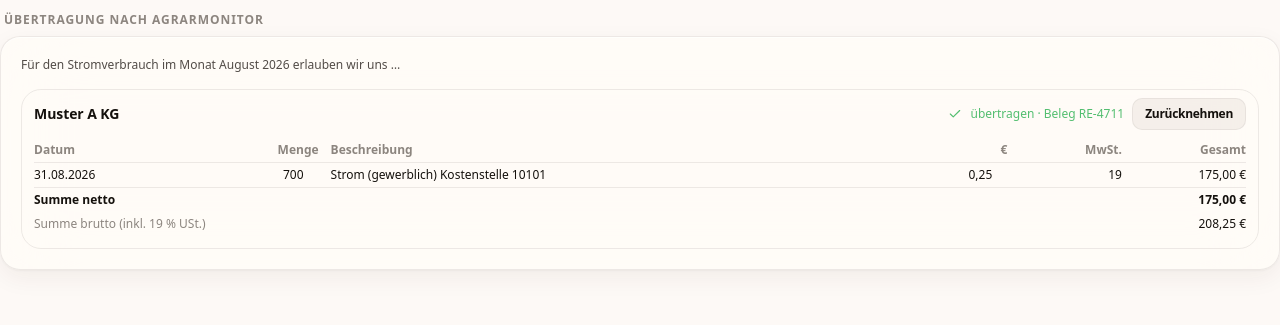
Test: TransferSection › nimmt eine Markierung zurück
What coordinates should you click on to do the following:
click the button "Zurücknehmen"
I would click on:
 (1189, 114)
Its box is [1132,98,1246,130].
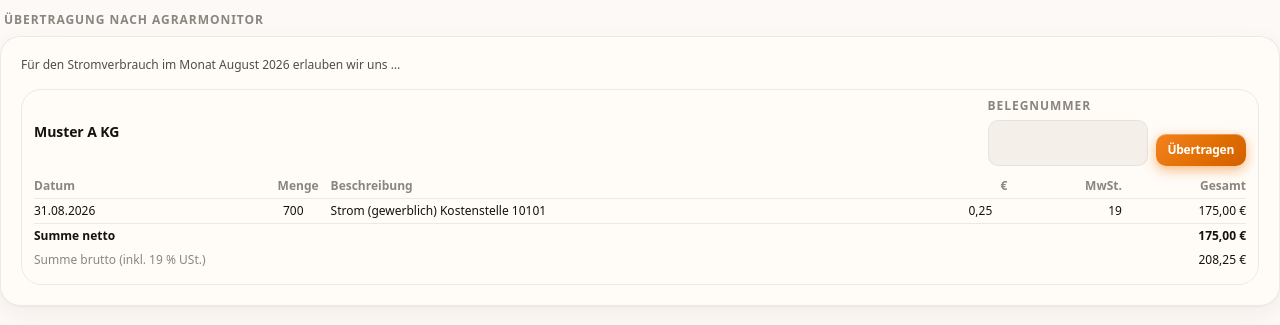
Check: the field labelled "Belegnummer" is shown, box [1002,121,1132,165]
